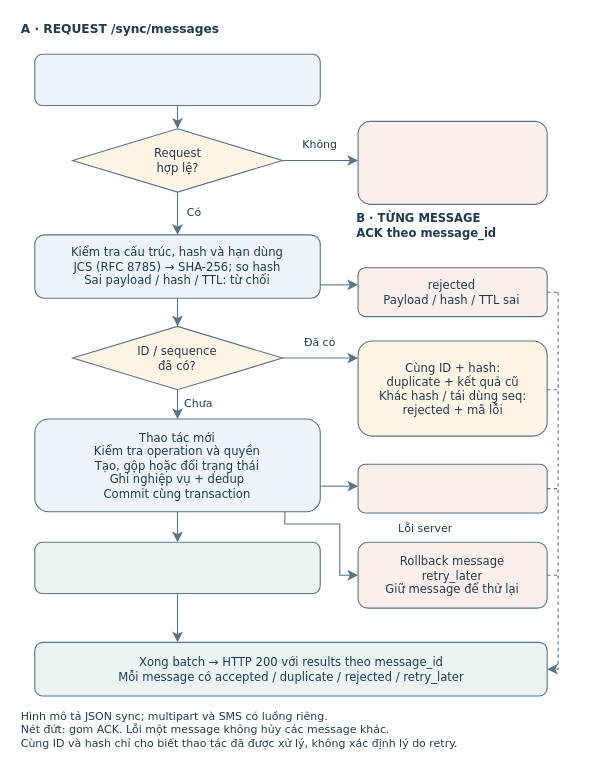
Some shapes in this 589 by 773 pixel diagram are drawn without their labels. Each missing label, with the centre of its shape:
accepted Nghiệp vụ và dedup đã commit: point 177,567
HTTP 400: version, JSON hoặc >50 message HTTP 413: >256 KiB Dừng cả request: point 452,162
Kiểm tra header v1, JSON số message và dung lượng request: point 177,79
rejected Sai nghiệp vụ / quyền: point 452,488
